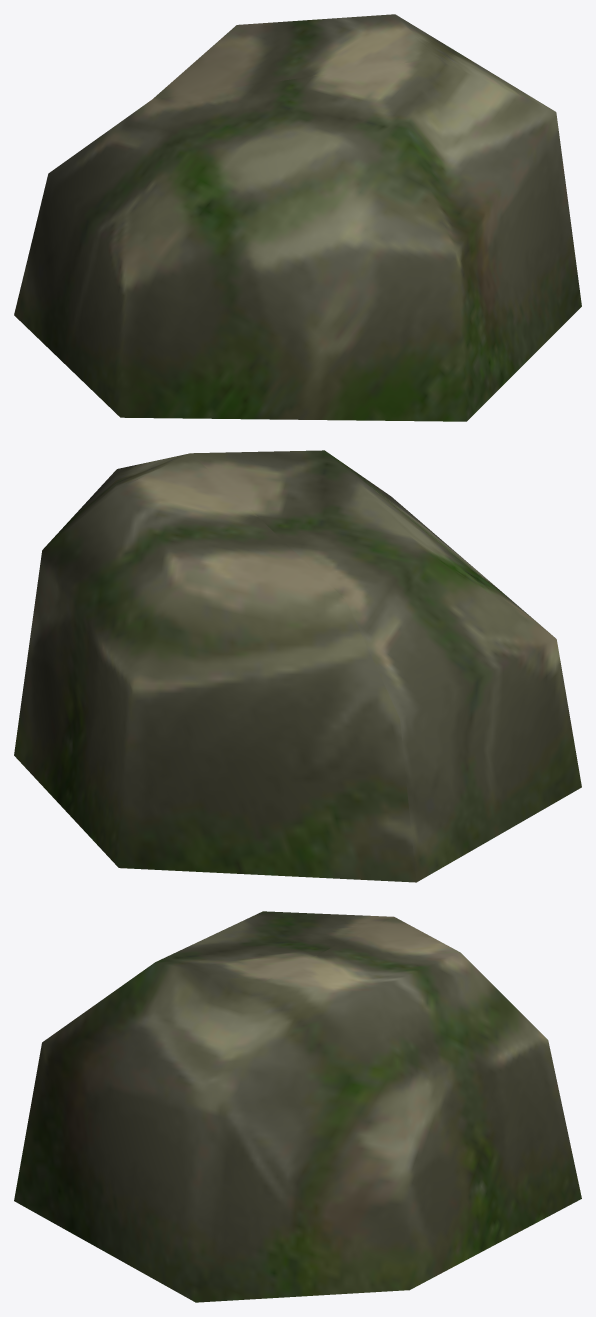
File: RockFormation_4_6.fbx
The picture shows the model from 3 angles, top to bottom: view 1: azimuth 30°, elevation 25°; view 2: azimuth 150°, elevation 25°; view 3: azimuth 270°, elevation 25°; orthographic projection. The views are drawn at different scales.
Visible parts, largest first — view 1: RockFormation_4_6; view 2: RockFormation_4_6; view 3: RockFormation_4_6.
Boxes of the visible parts, x1,y1,x2,y2 form: RockFormation_4_6: (14, 14, 581, 421); RockFormation_4_6: (14, 450, 581, 882); RockFormation_4_6: (14, 911, 581, 1302).
Bounding box in the file's own units: 60.92 × 32.24 × 63.97.
